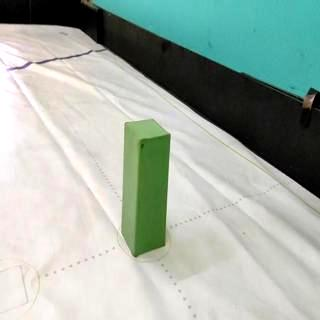greenbox: (122, 118, 172, 258)
